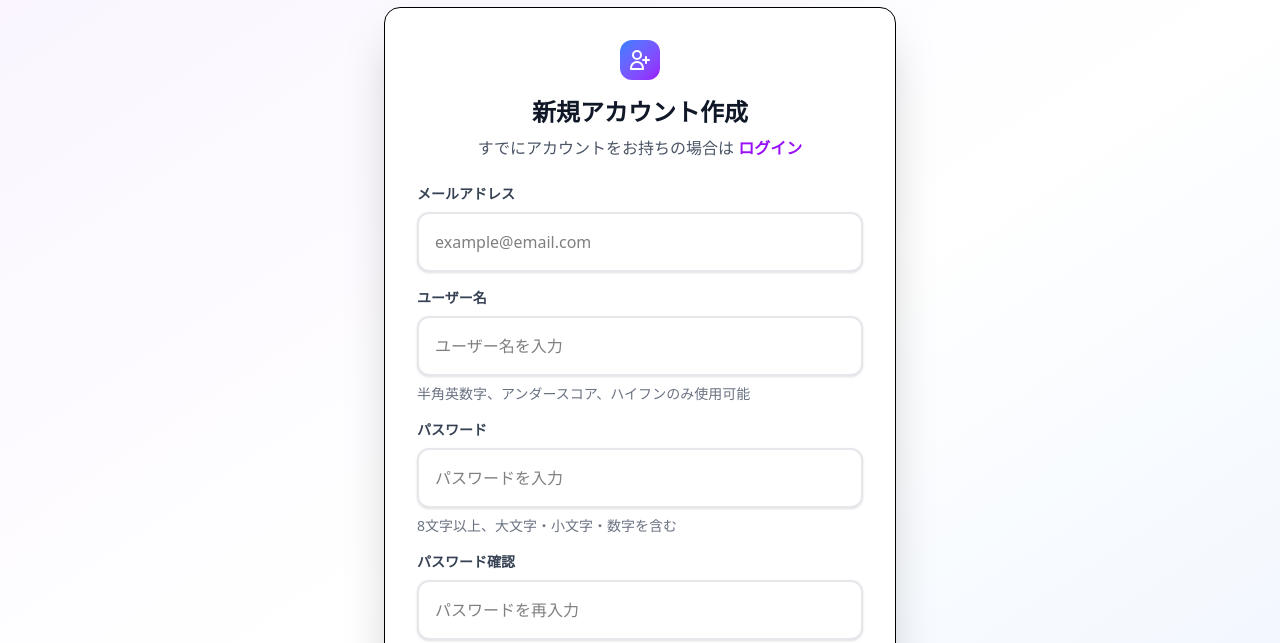
RegisterForm Component › validates password strength
# Enter weak password (no uppercase, no numbers)
Type "test@example.com" into the field labelled "メールアドレス" at (640, 242), box 417,212 -> 863,272
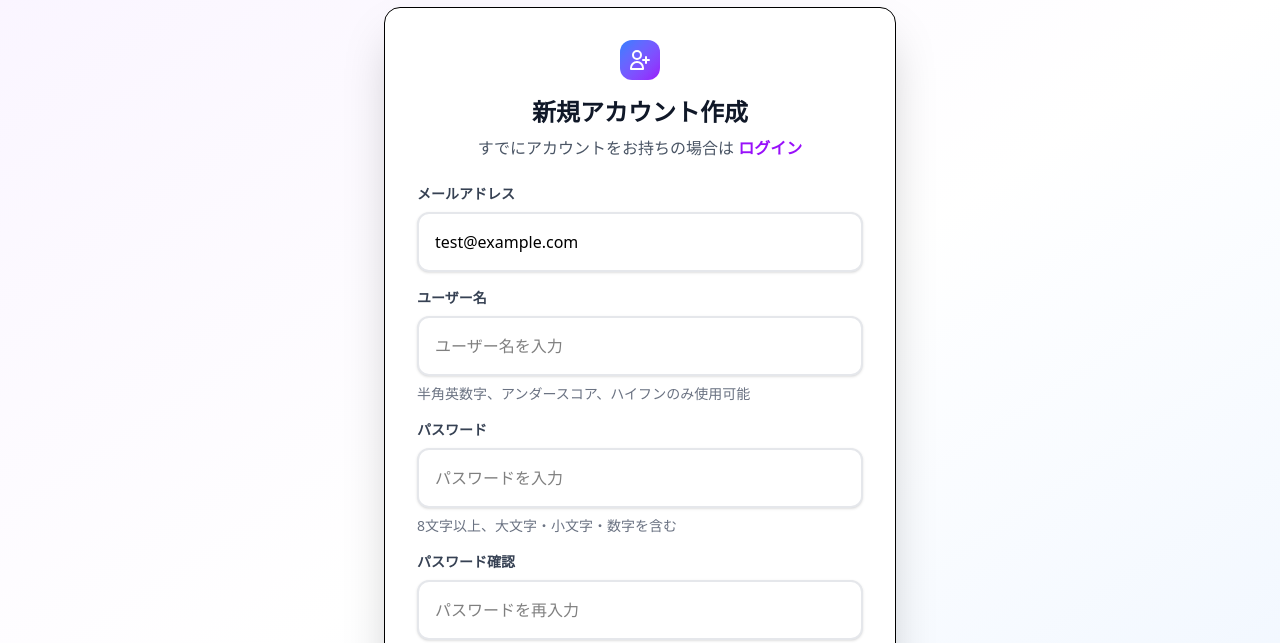
Type "testuser" into the field labelled "ユーザー名" at (640, 346), box 417,316 -> 863,376
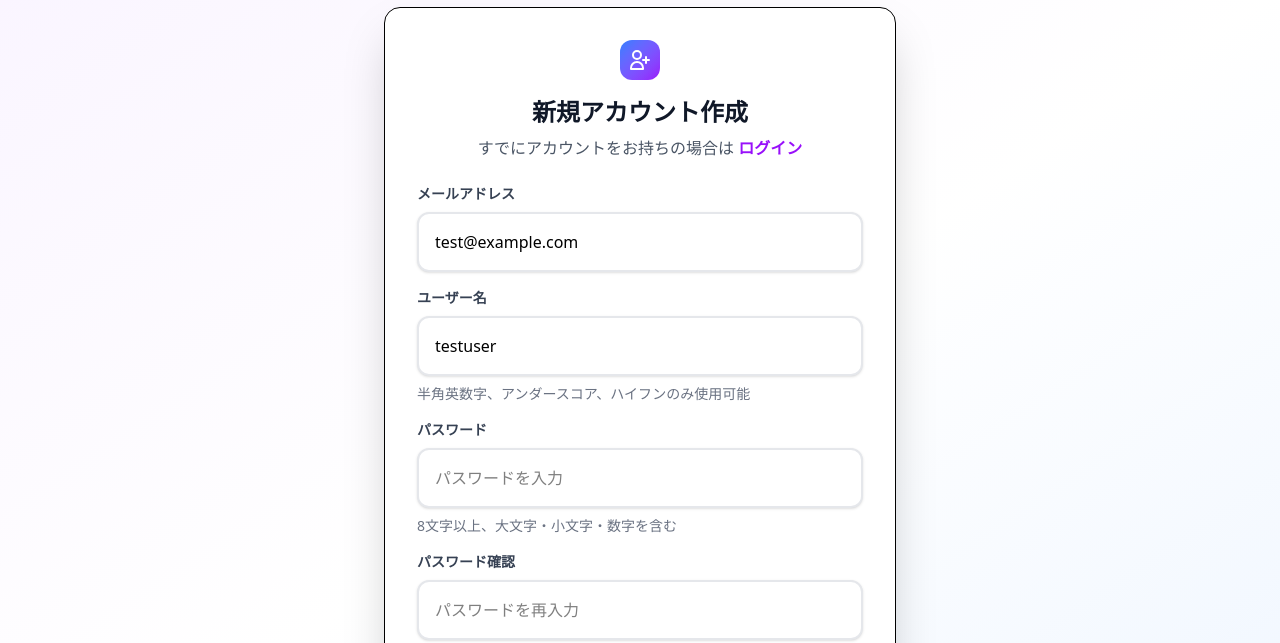
Type "password" into the password field labelled "パスワード" at (640, 478), box 417,448 -> 863,508
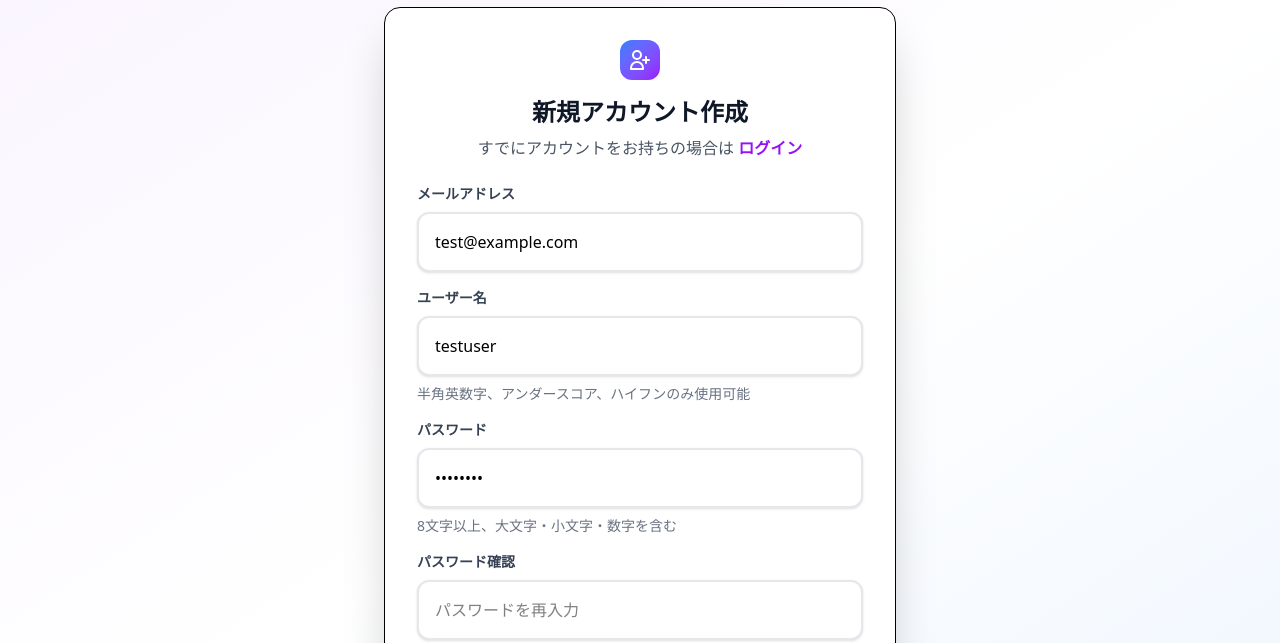
Type "password" into the password field labelled "パスワード確認" at (640, 610), box 417,580 -> 863,640
(page scrolled)
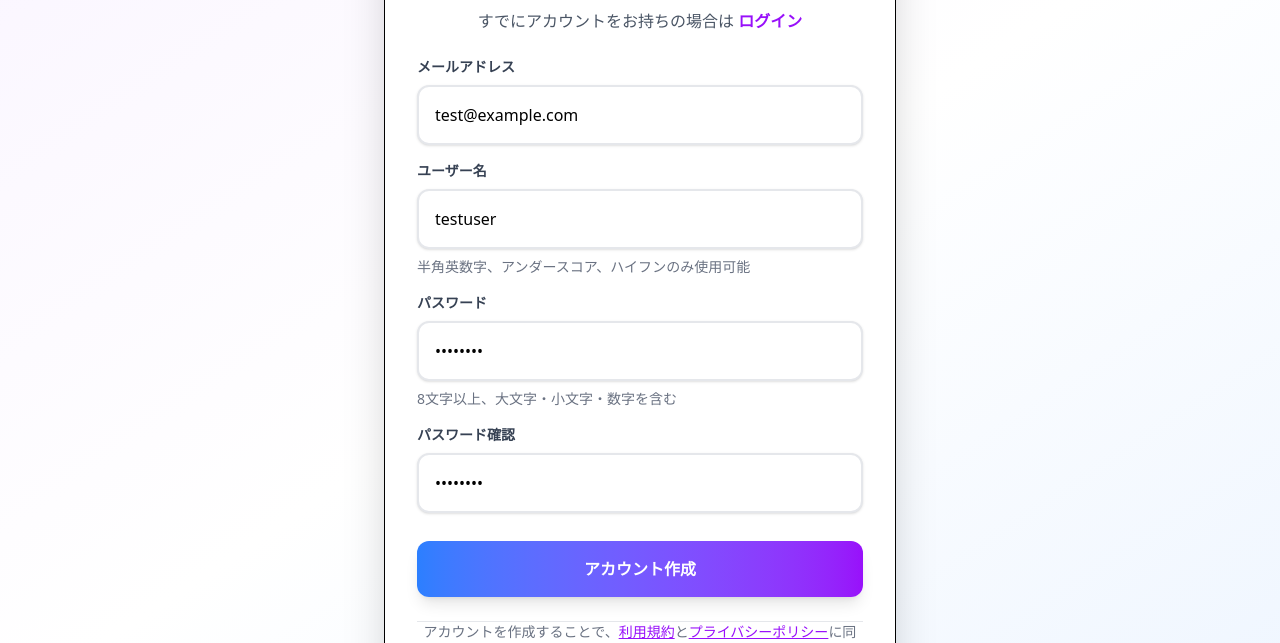
Click the button "アカウント作成" at (640, 569), box 417,541 -> 863,597
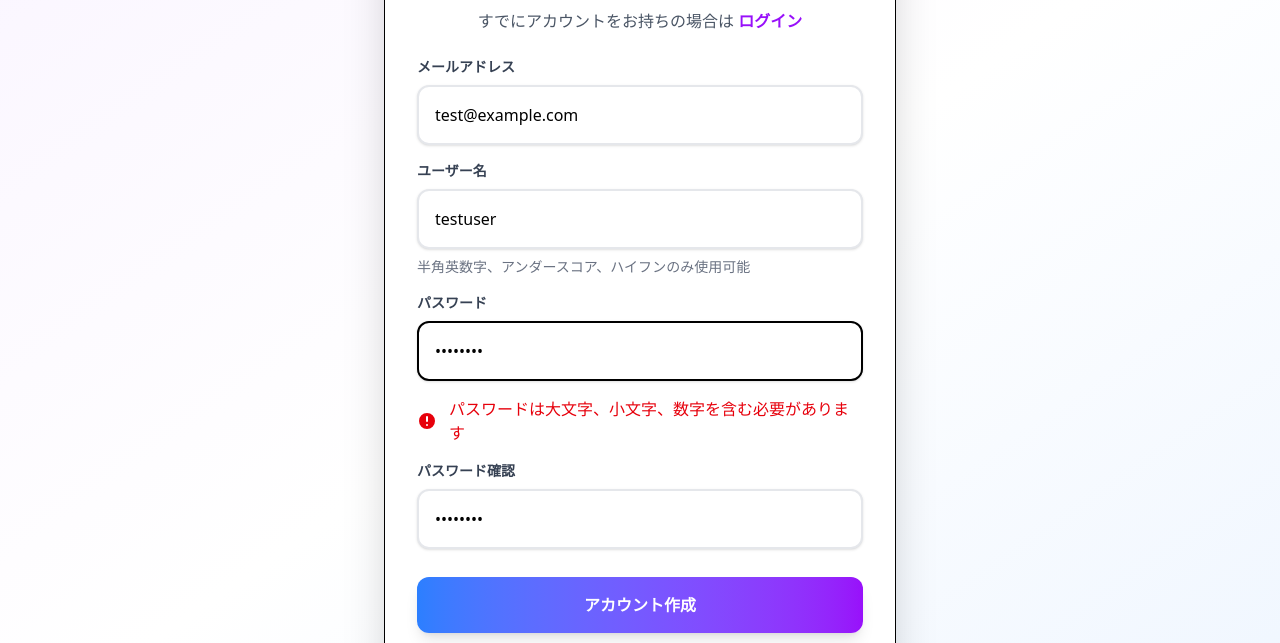
Result: the text "パスワードは大文字、小文字、数字を含む必要があります" is shown at 417,397 -> 863,445
